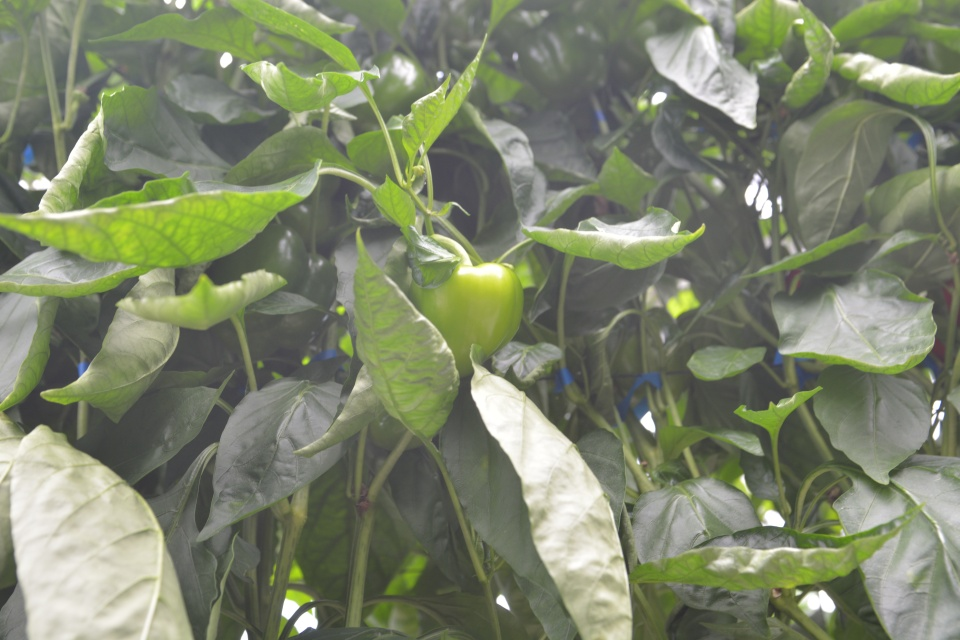fruit: (205, 220, 339, 366), (408, 259, 525, 380), (518, 9, 611, 104), (359, 47, 434, 122), (276, 173, 343, 255), (369, 408, 432, 452)
